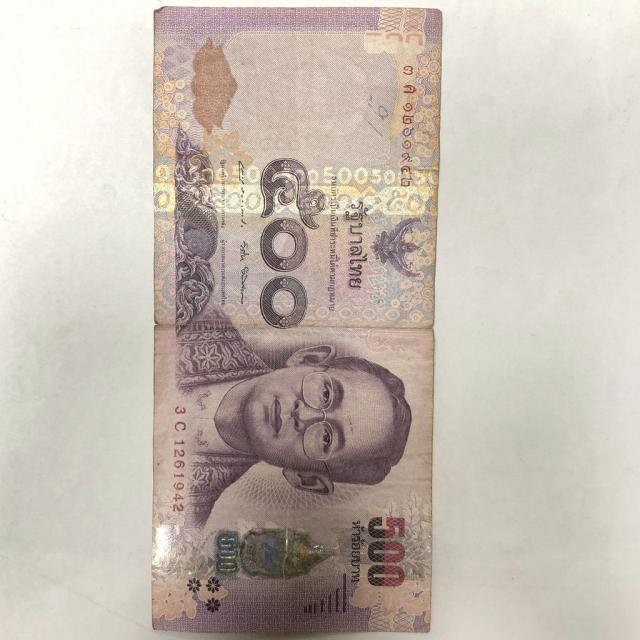THAI500: (151, 7, 441, 631)
